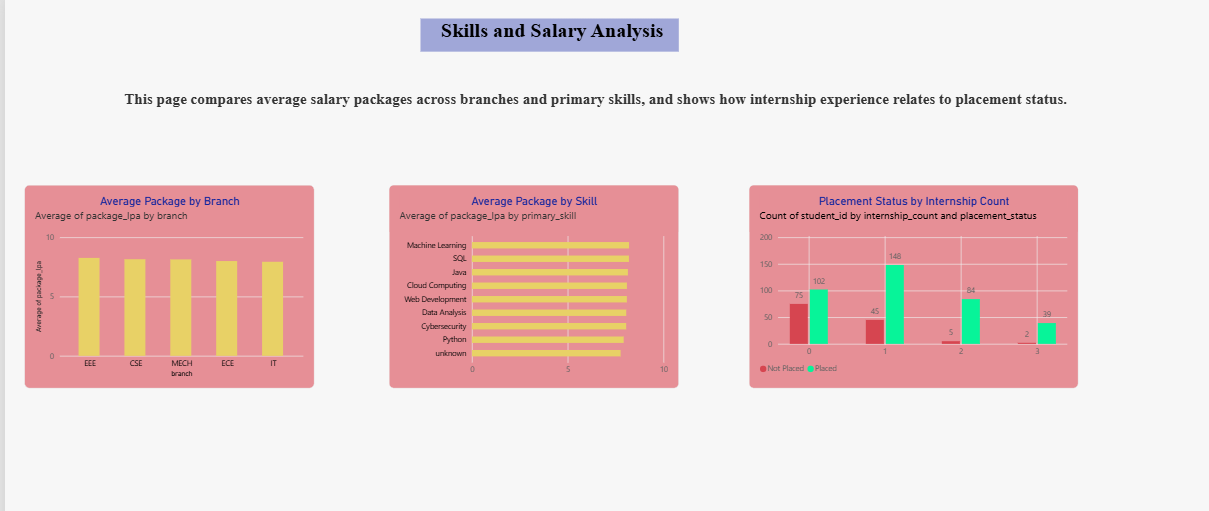

Layout of this report page (visuals, bound fields, positions):
{"tool":"powerbi","page":{"name":"Skills and Salary Analysis","canvas":[1920,1080],"ordinal":1},"visuals":[{"type":"clusteredColumnChart","title":"Average Package by Branch","fields":{"Category":["placement_cleaned_data.branch"],"Y":["Avg(placement_cleaned_data.package_lpa)"]},"box":[30,300,460,322.5],"z":0},{"type":"clusteredBarChart","title":"Average Package by Skill","fields":{"Category":["placement_cleaned_data.primary_skill"],"Y":["Avg(placement_cleaned_data.package_lpa)"]},"box":[610,300,460,322.5],"z":1000},{"type":"clusteredColumnChart","title":"Placement Status by Internship Count","fields":{"Category":["placement_cleaned_data.internship_count"],"Series":["placement_cleaned_data.placement_status"],"Y":["CountNonNull(placement_cleaned_data.student_id)"]},"box":[1180,300,522.5,322.5],"z":2000},{"type":"textbox","box":[660,35,410,52.5],"z":3000},{"type":"textbox","box":[28.6,150,1818.1,74],"z":4000}]}

Visuals, with their boxes on the page's 1920x1080 design canvas (x1, y1, x2, y2). These are canvas units, not pixel positions in the 1209x511 screenshot, which may show the page scaled, cropped or inside an application window:
"Average Package by Branch" clusteredColumnChart: rect(30, 300, 490, 622)
"Average Package by Skill" clusteredBarChart: rect(610, 300, 1070, 622)
"Placement Status by Internship Count" clusteredColumnChart: rect(1180, 300, 1702, 622)
textbox: rect(660, 35, 1070, 88)
textbox: rect(29, 150, 1847, 224)
